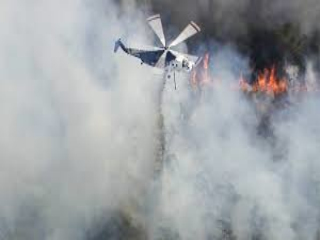fire: (244, 65, 287, 98)
